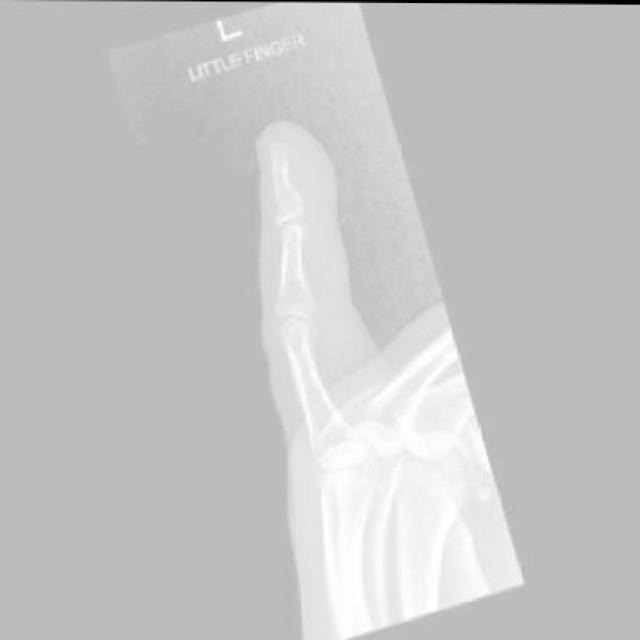Fracture: (268, 174, 307, 208)
